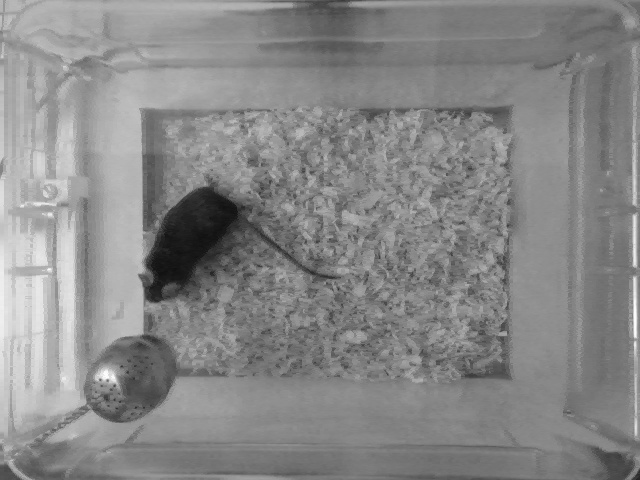mice: (136, 177, 344, 307)
